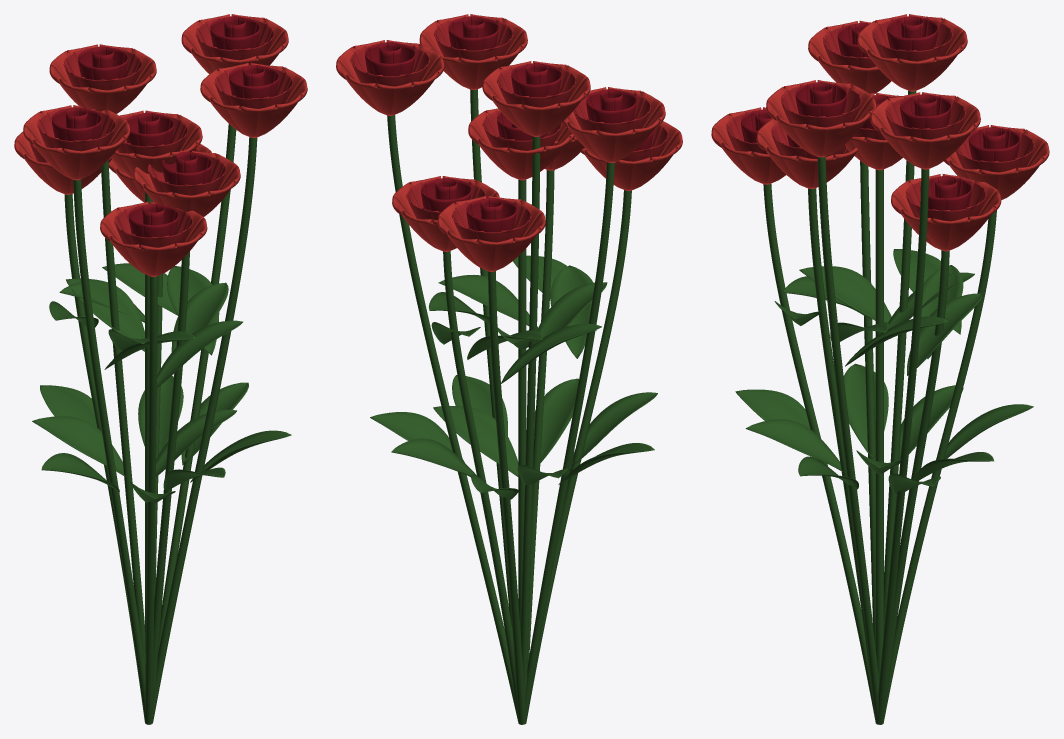
File: Rose_Bouquet.fbx
The picture shows the model from 3 angles, left to right: view 1: azimuth 30°, elevation 25°; view 2: azimuth 150°, elevation 25°; view 3: azimuth 270°, elevation 25°; orthographic projection. The views are drawn at different scales.
Parts seen in each view (by area): view 1: Rose stem.014, Rose stem.013, Rose stem.016, Rose stem.010, Rose stem.011, Rose stem.017, Rose serrated leaf.020, Rose stem.015, Rose serrated leaf.019, Rose serrated leaf.033, Rose serrated leaf.023, Rose serrated leaf.030 (+22 smaller); view 2: Rose stem.013, Rose stem.017, Rose stem.010, Rose stem.015, Rose stem.012, Rose stem.016, Rose stem.011, Rose stem.009, Rose serrated leaf.018, Rose serrated leaf.022, Rose serrated leaf.032, Rose stem.014 (+25 smaller); view 3: Rose stem.014, Rose stem.017, Rose stem.009, Rose stem.016, Rose stem.015, Rose stem.012, Rose stem.013, Rose stem.010, Rose stem.011, Rose serrated leaf.022, Rose serrated leaf.021, Rose serrated leaf.026 (+25 smaller).
Part boxes in pixels (x1,y1,x2,y2): Rose stem.014: (152,137,257,722); Rose stem.013: (73,179,148,724); Rose stem.016: (145,276,157,724); Rose stem.010: (101,160,145,722); Rose stem.011: (150,251,189,724); Rose stem.017: (152,124,236,723); Rose serrated leaf.020: (32,416,126,477); Rose stem.015: (64,194,144,721); Rose serrated leaf.019: (66,278,145,351); Rose serrated leaf.033: (157,320,242,387); Rose serrated leaf.023: (171,282,228,352); Rose serrated leaf.030: (40,385,96,426); Rose stem.013: (524,162,614,724); Rose stem.017: (387,115,519,724); Rose stem.010: (520,136,540,724); Rose stem.015: (488,271,525,724); Rose stem.012: (443,251,520,724); Rose stem.016: (524,190,631,723); Rose stem.011: (527,170,554,664); Rose stem.009: (518,179,526,723); Rose serrated leaf.018: (433,406,518,476); Rose serrated leaf.022: (534,378,578,463); Rose serrated leaf.032: (571,392,657,466); Rose stem.014: (470,89,512,626); Rose stem.014: (817,156,880,724); Rose stem.017: (877,168,929,724); Rose stem.009: (875,169,883,724); Rose stem.016: (763,184,875,723); Rose stem.015: (883,210,996,723); Rose stem.012: (882,250,949,724); Rose stem.013: (860,161,875,645); Rose stem.010: (884,90,916,630); Rose stem.011: (808,188,877,723); Rose serrated leaf.022: (745,419,846,473); Rose serrated leaf.021: (799,266,891,322); Rose serrated leaf.026: (843,363,888,458).
Size of the model in its own units: 0.2079 by 0.4712 by 0.2101.
